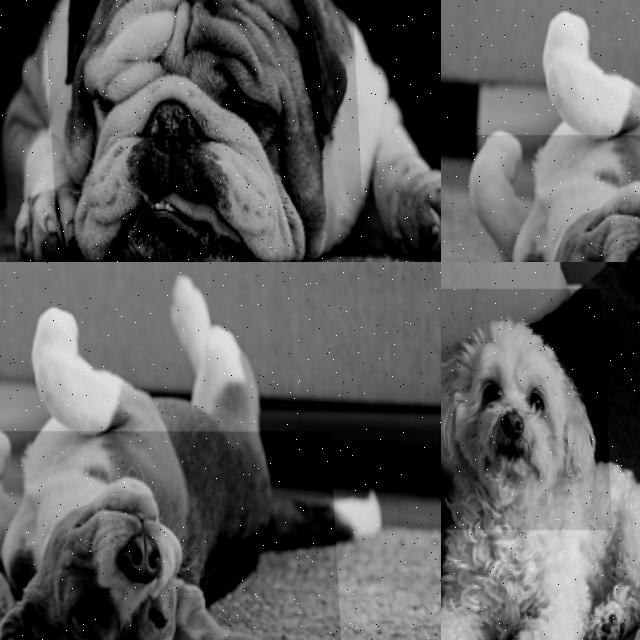beagle: (0, 414, 346, 640), (441, 118, 640, 262)
bulldog: (38, 0, 365, 262)
poodle: (441, 280, 610, 534)
